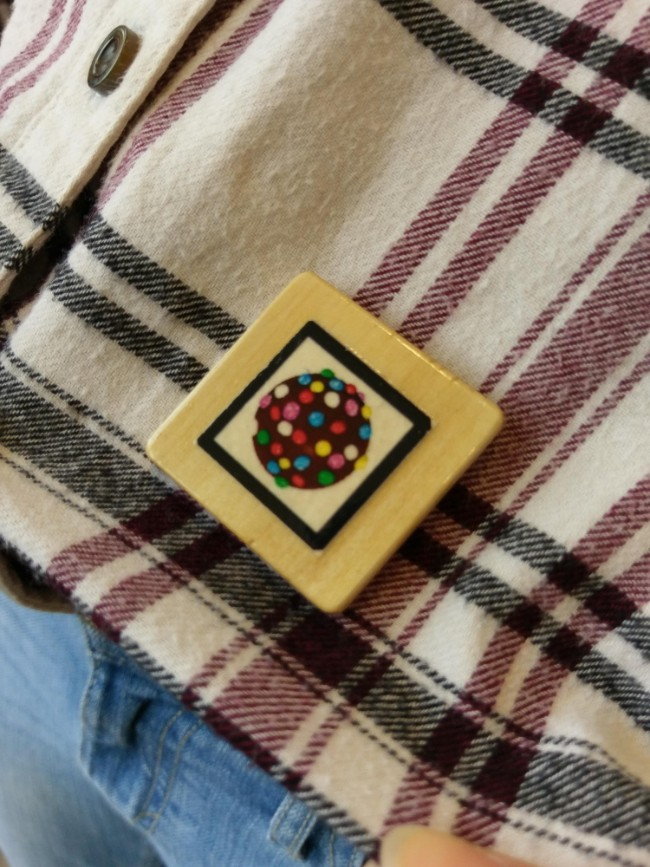cookie: (180, 310, 445, 563)
